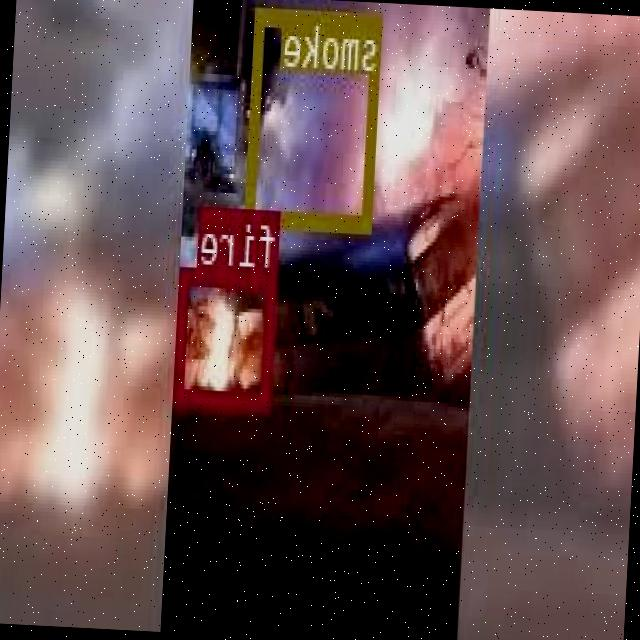fire: (176, 262, 279, 408)
smoke: (248, 7, 384, 229)
